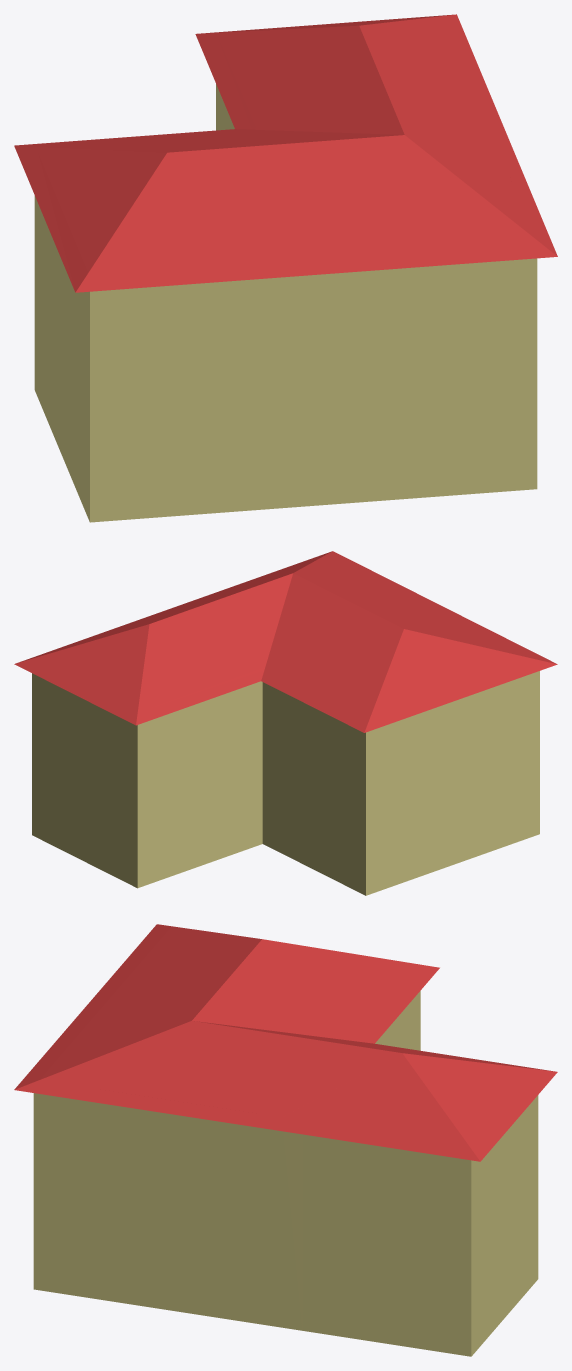
The picture shows the model from 3 angles, top to bottom: view 1: azimuth 30°, elevation 25°; view 2: azimuth 150°, elevation 25°; view 3: azimuth 270°, elevation 25°; orthographic projection. The views are drawn at different scales.
Size of the model in its own units: 18.43 by 17.83 by 9.12.
